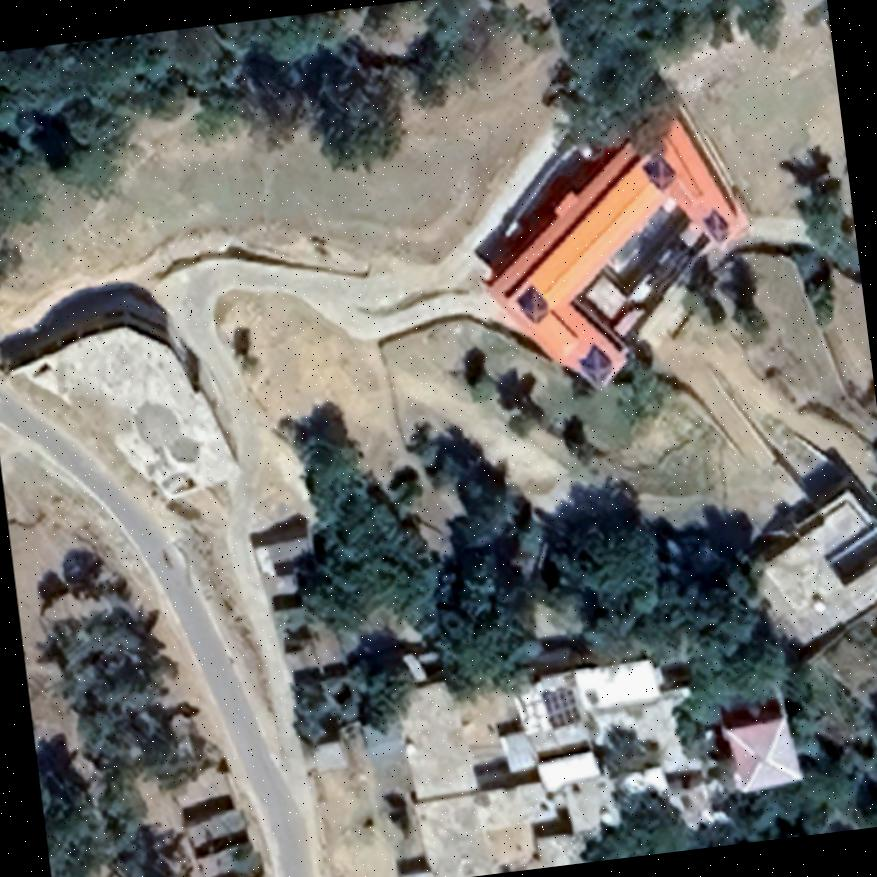Solarpanel: (537, 682, 582, 732)
